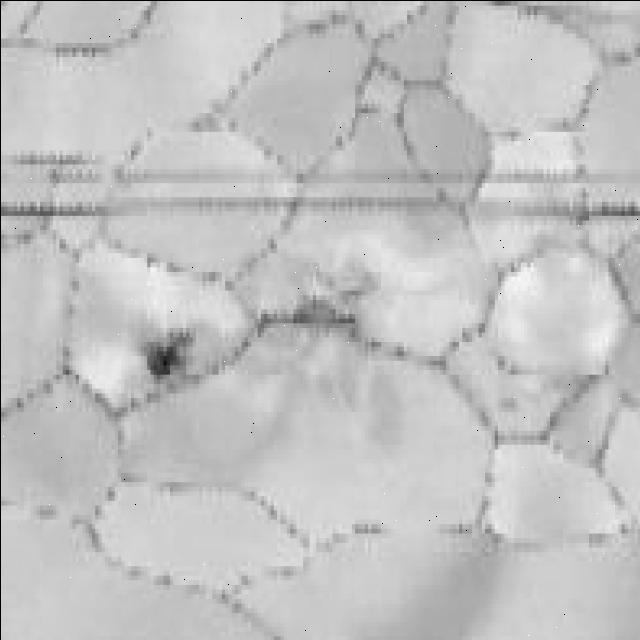good_void: (138, 318, 193, 384)
